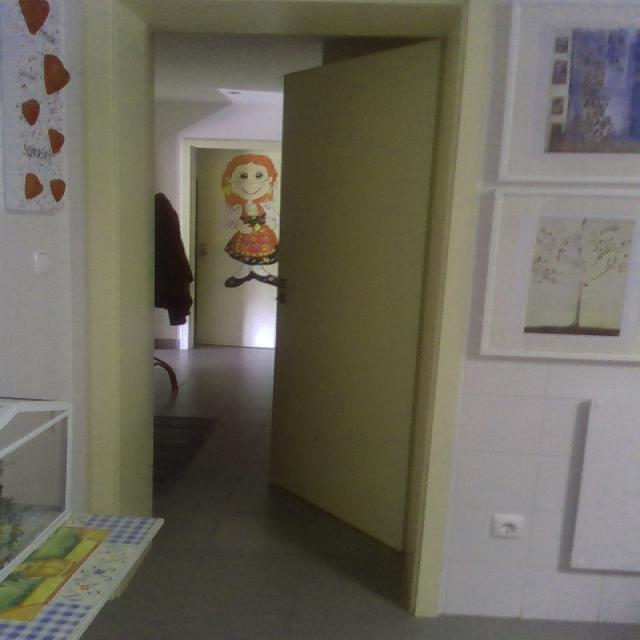door: (269, 35, 445, 553)
